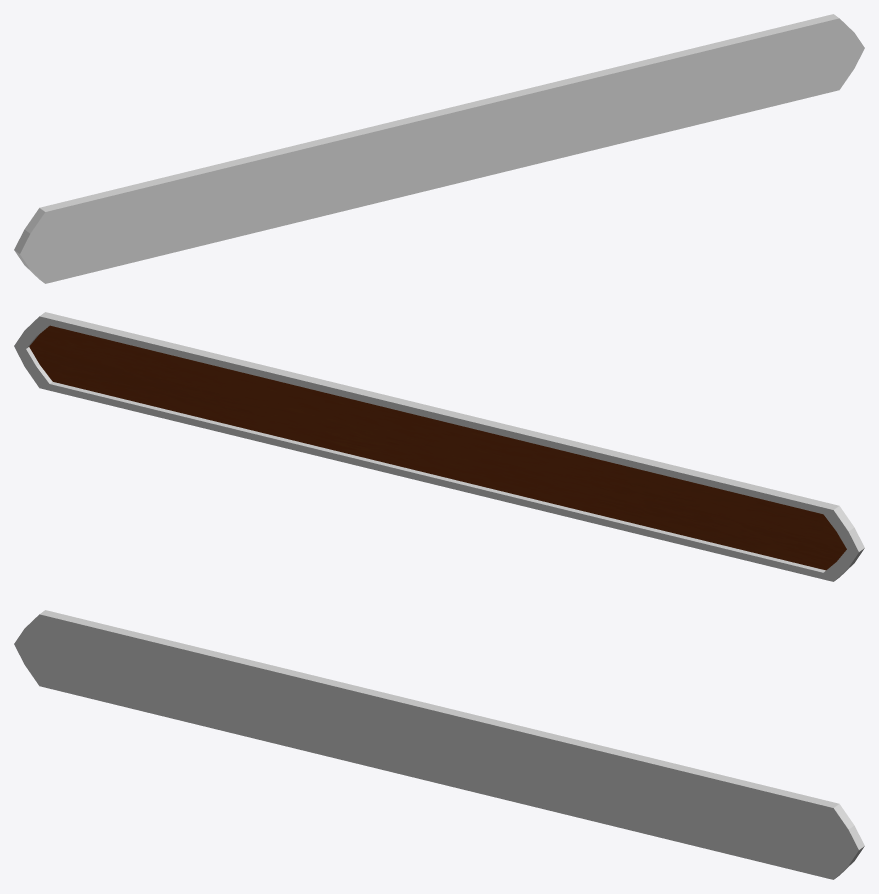
File: median-dirt-barrier-01.obj
3 renders of one model, top to bottom at view 1: azimuth 30°, elevation 25°; view 2: azimuth 150°, elevation 25°; view 3: azimuth 330°, elevation 25°, orthographic.
Visible parts, largest first — view 1: median-dirt-barrier-01_Plane.175; view 2: median-dirt-barrier-01_Plane.175; view 3: median-dirt-barrier-01_Plane.175.
Part boxes in pixels (x1,y1,x2,y2): median-dirt-barrier-01_Plane.175: [14, 14, 864, 283]; median-dirt-barrier-01_Plane.175: [14, 312, 864, 581]; median-dirt-barrier-01_Plane.175: [14, 610, 864, 879].
Bounding box in the file's own units: 30.81 × 2.5 × 0.3751.
